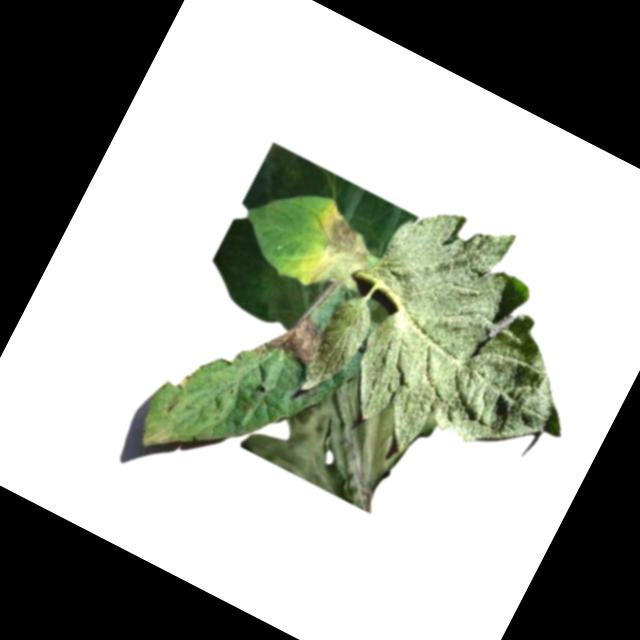Late_blight: (238, 343, 440, 522), (289, 199, 385, 303), (262, 302, 335, 372), (138, 419, 177, 454)
